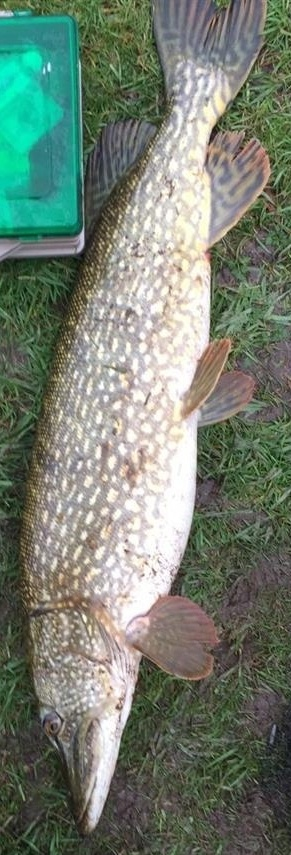Esox lucius: (20, 1, 271, 835)
